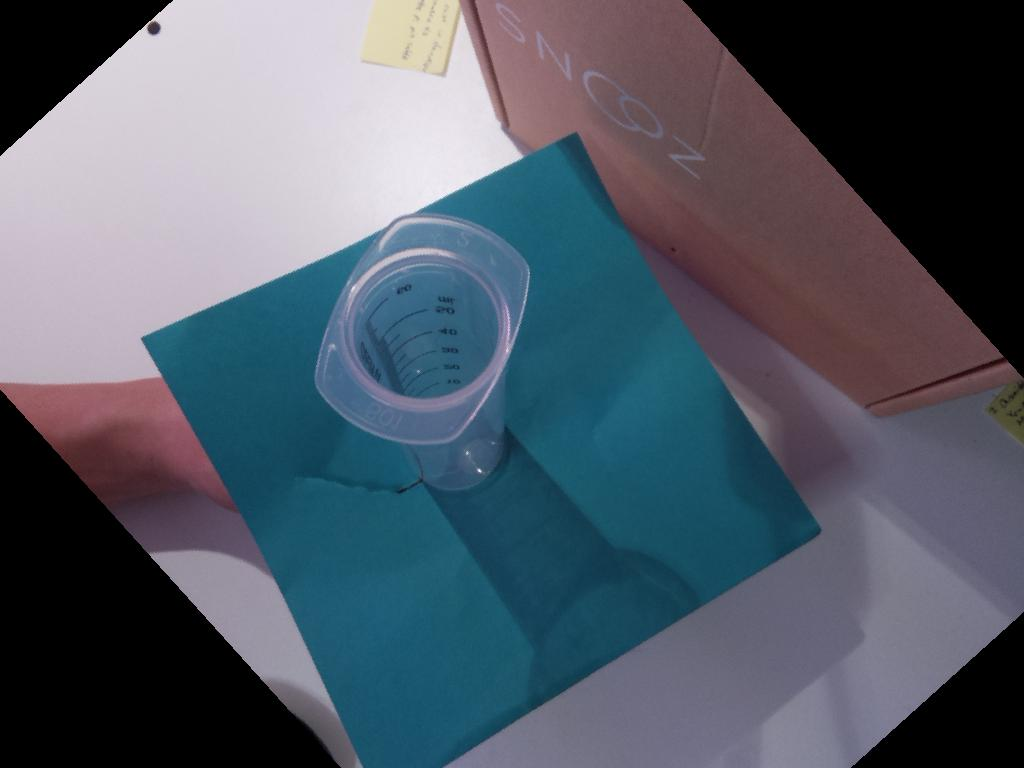clean: (314, 211, 532, 451)
